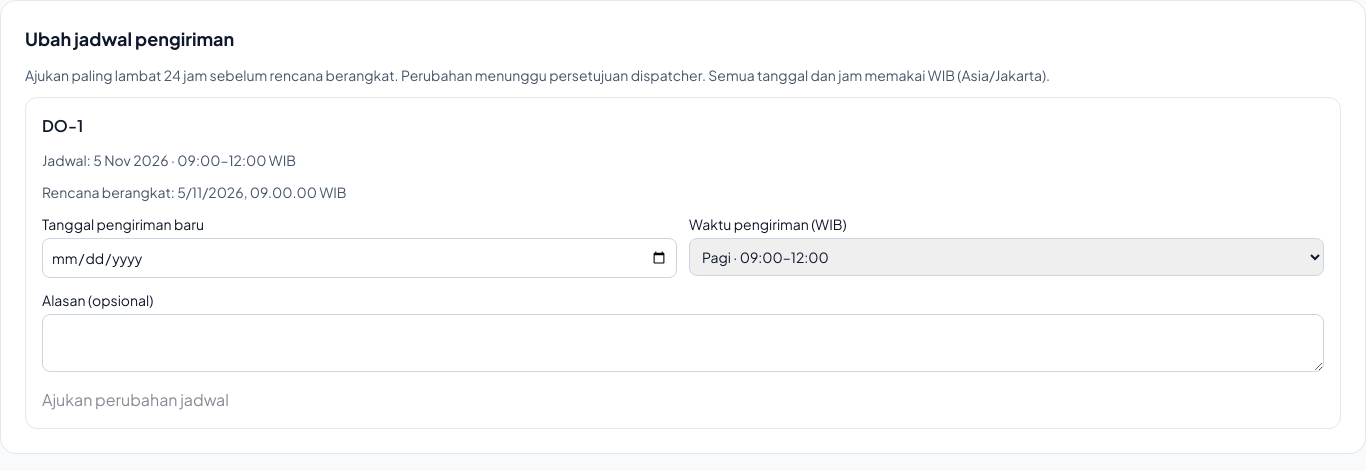
Customer rescheduling › submits chosen date/window and explicitly awaits approval
The image size is (1366, 471).
Expected: the heading "DO-1" is shown, [42,115,83,136]
Type "2026-11-06" into the date field labelled "Tanggal pengiriman baru" at (360,258), box [42,238,677,278]
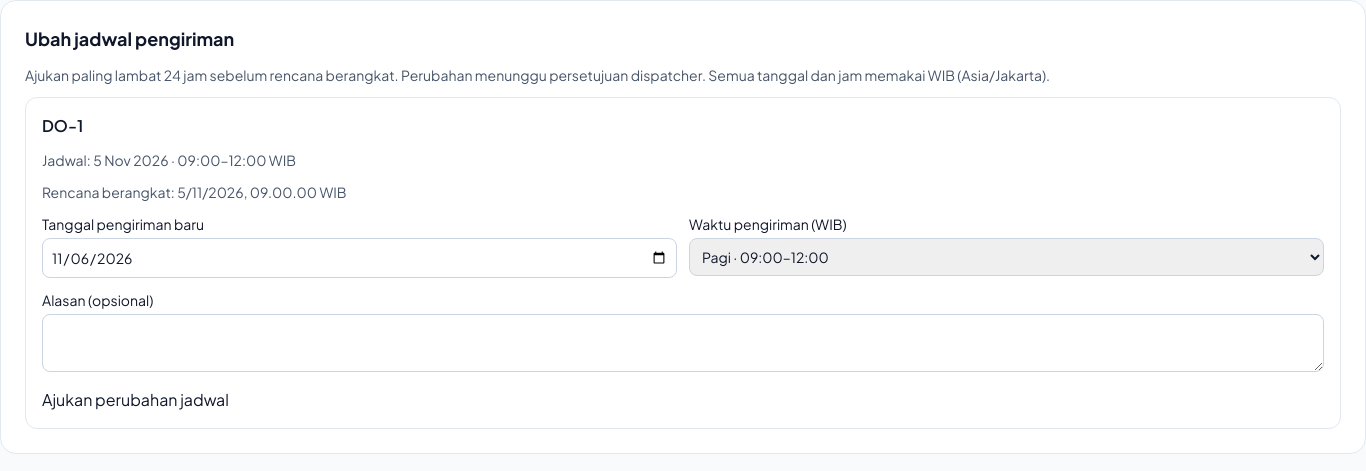
Select "Siang · 12:00–17:00" in the dropdown labelled "Waktu pengiriman (WIB)" at (1006,257), box [689,238,1324,276]
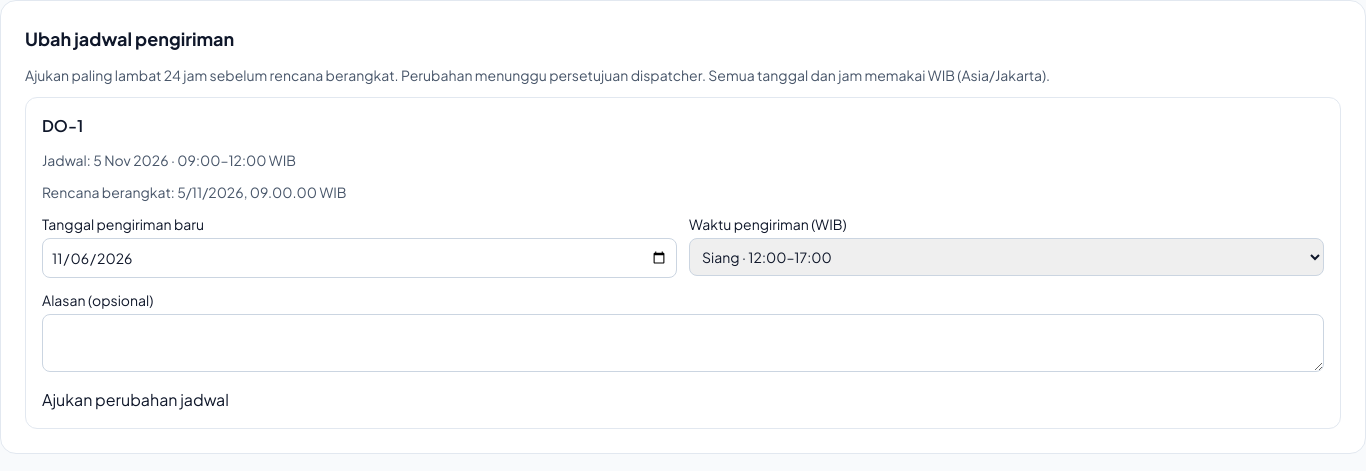
Type "Changed availability" into the text box labelled "Alasan (opsional)" at (683,343), box [42,314,1324,372]
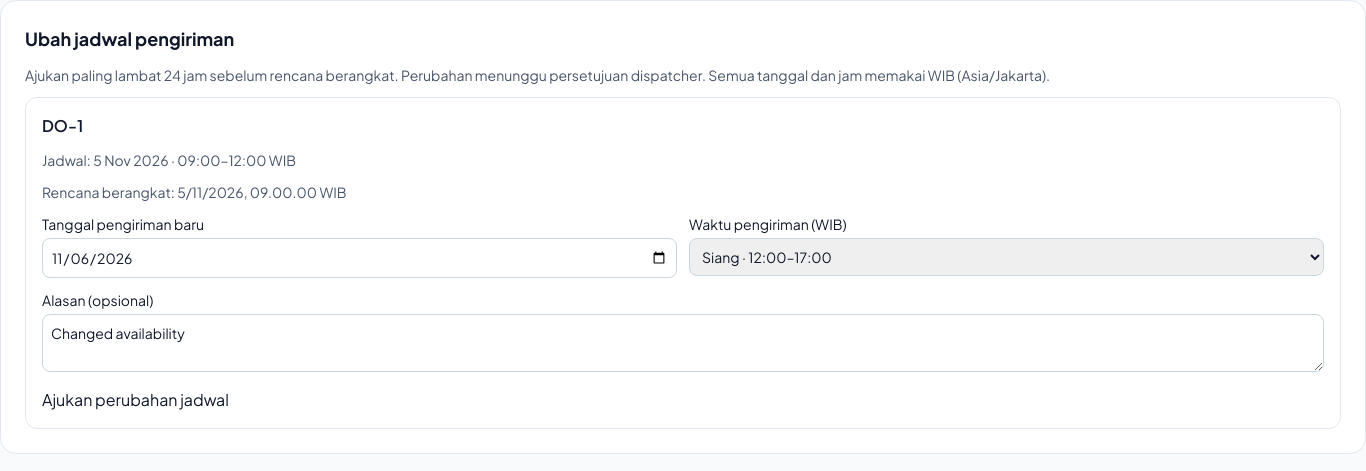
Click the button "Ajukan perubahan jadwal" at (135,400), box [42,388,229,412]
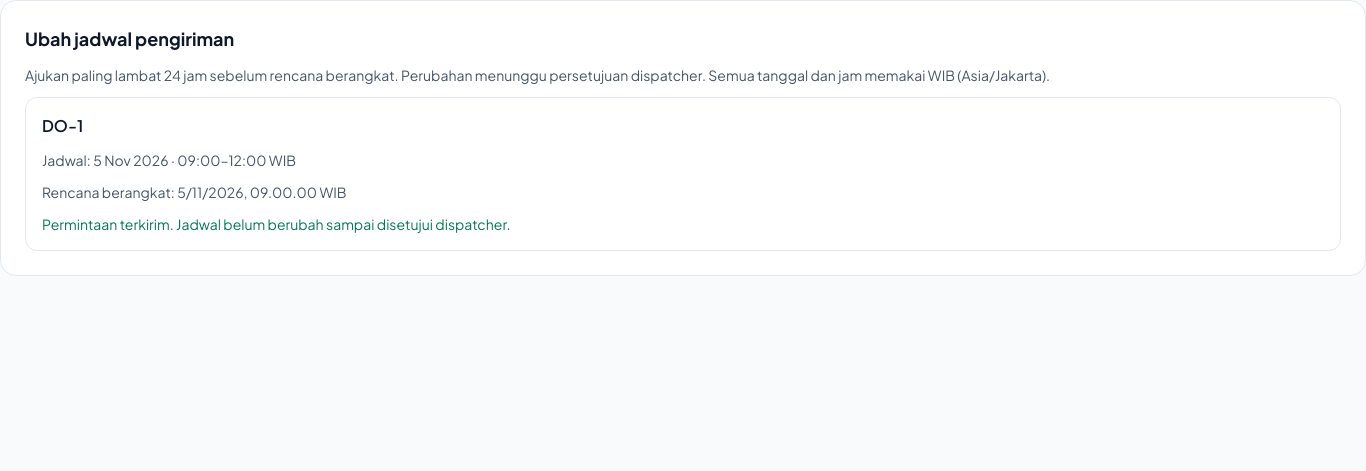
Expected: the message shows "Jadwal belum berubah", [42,215,511,233]
